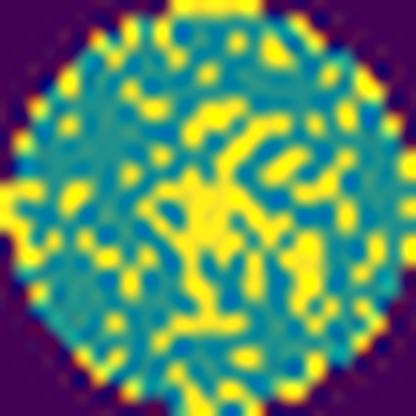Center: (142, 112, 326, 342)
